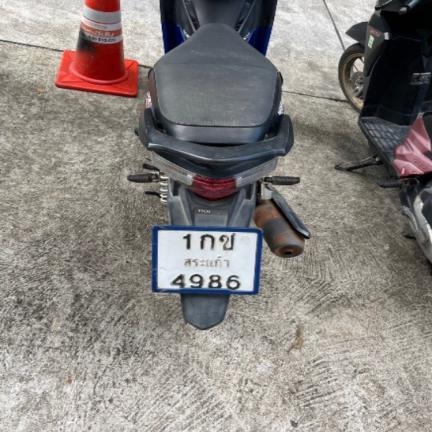1: (179, 232, 193, 250)
4: (167, 272, 187, 289)
6: (226, 273, 242, 290)
8: (206, 273, 224, 289)
9: (188, 273, 204, 288)
A01: (197, 232, 215, 250)
A10: (218, 232, 236, 251)
SKW: (181, 255, 231, 269)
